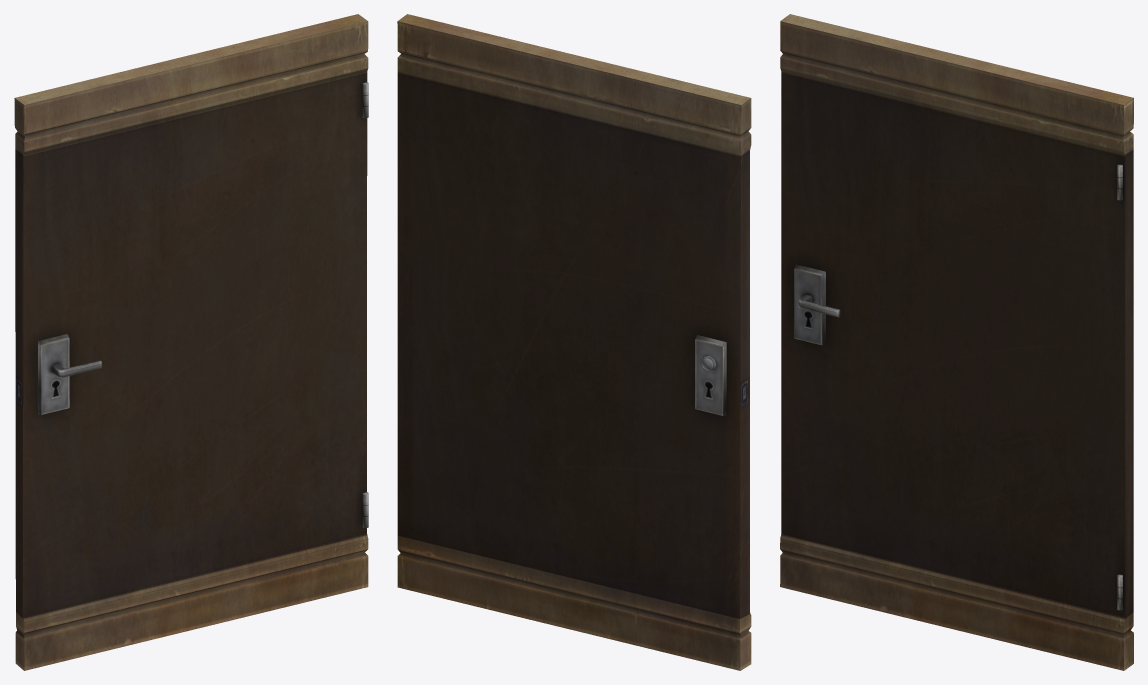
Rendered from exit_office.dae.
The picture shows the model from 3 angles, left to right: view 1: azimuth 30°, elevation 25°; view 2: azimuth 150°, elevation 25°; view 3: azimuth 330°, elevation 25°; orthographic projection.
Visible parts, largest first — view 1: exit_office; view 2: exit_office; view 3: exit_office.
Boxes of the visible parts, x1,y1,x2,y2 form: exit_office: (14, 14, 368, 670); exit_office: (397, 14, 751, 670); exit_office: (780, 14, 1133, 670).
Size of the model in its own units: 1.75 by 2.75 by 0.2157.
